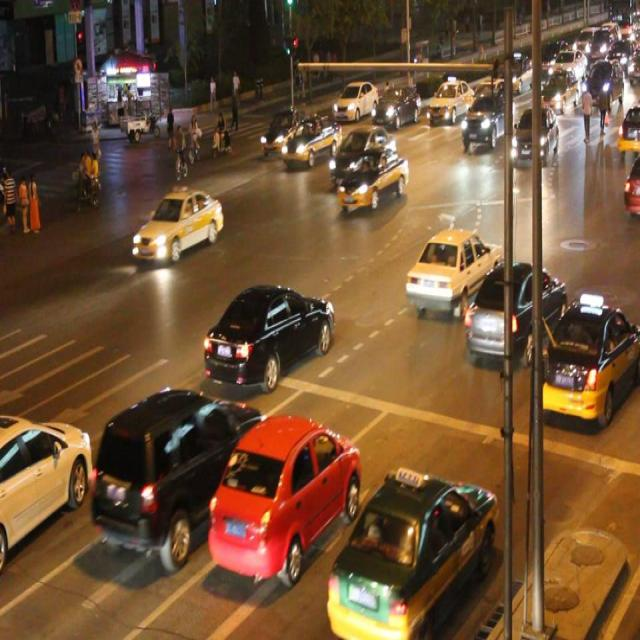car: (326, 469, 497, 640), (93, 388, 266, 542), (208, 416, 360, 574), (203, 282, 333, 386), (1, 412, 89, 552), (539, 302, 640, 416), (464, 260, 565, 356), (404, 227, 500, 311), (130, 190, 222, 263), (335, 145, 409, 212), (330, 124, 396, 182), (459, 91, 510, 147), (509, 106, 557, 164), (280, 118, 340, 164), (370, 83, 420, 129), (261, 107, 308, 150)
